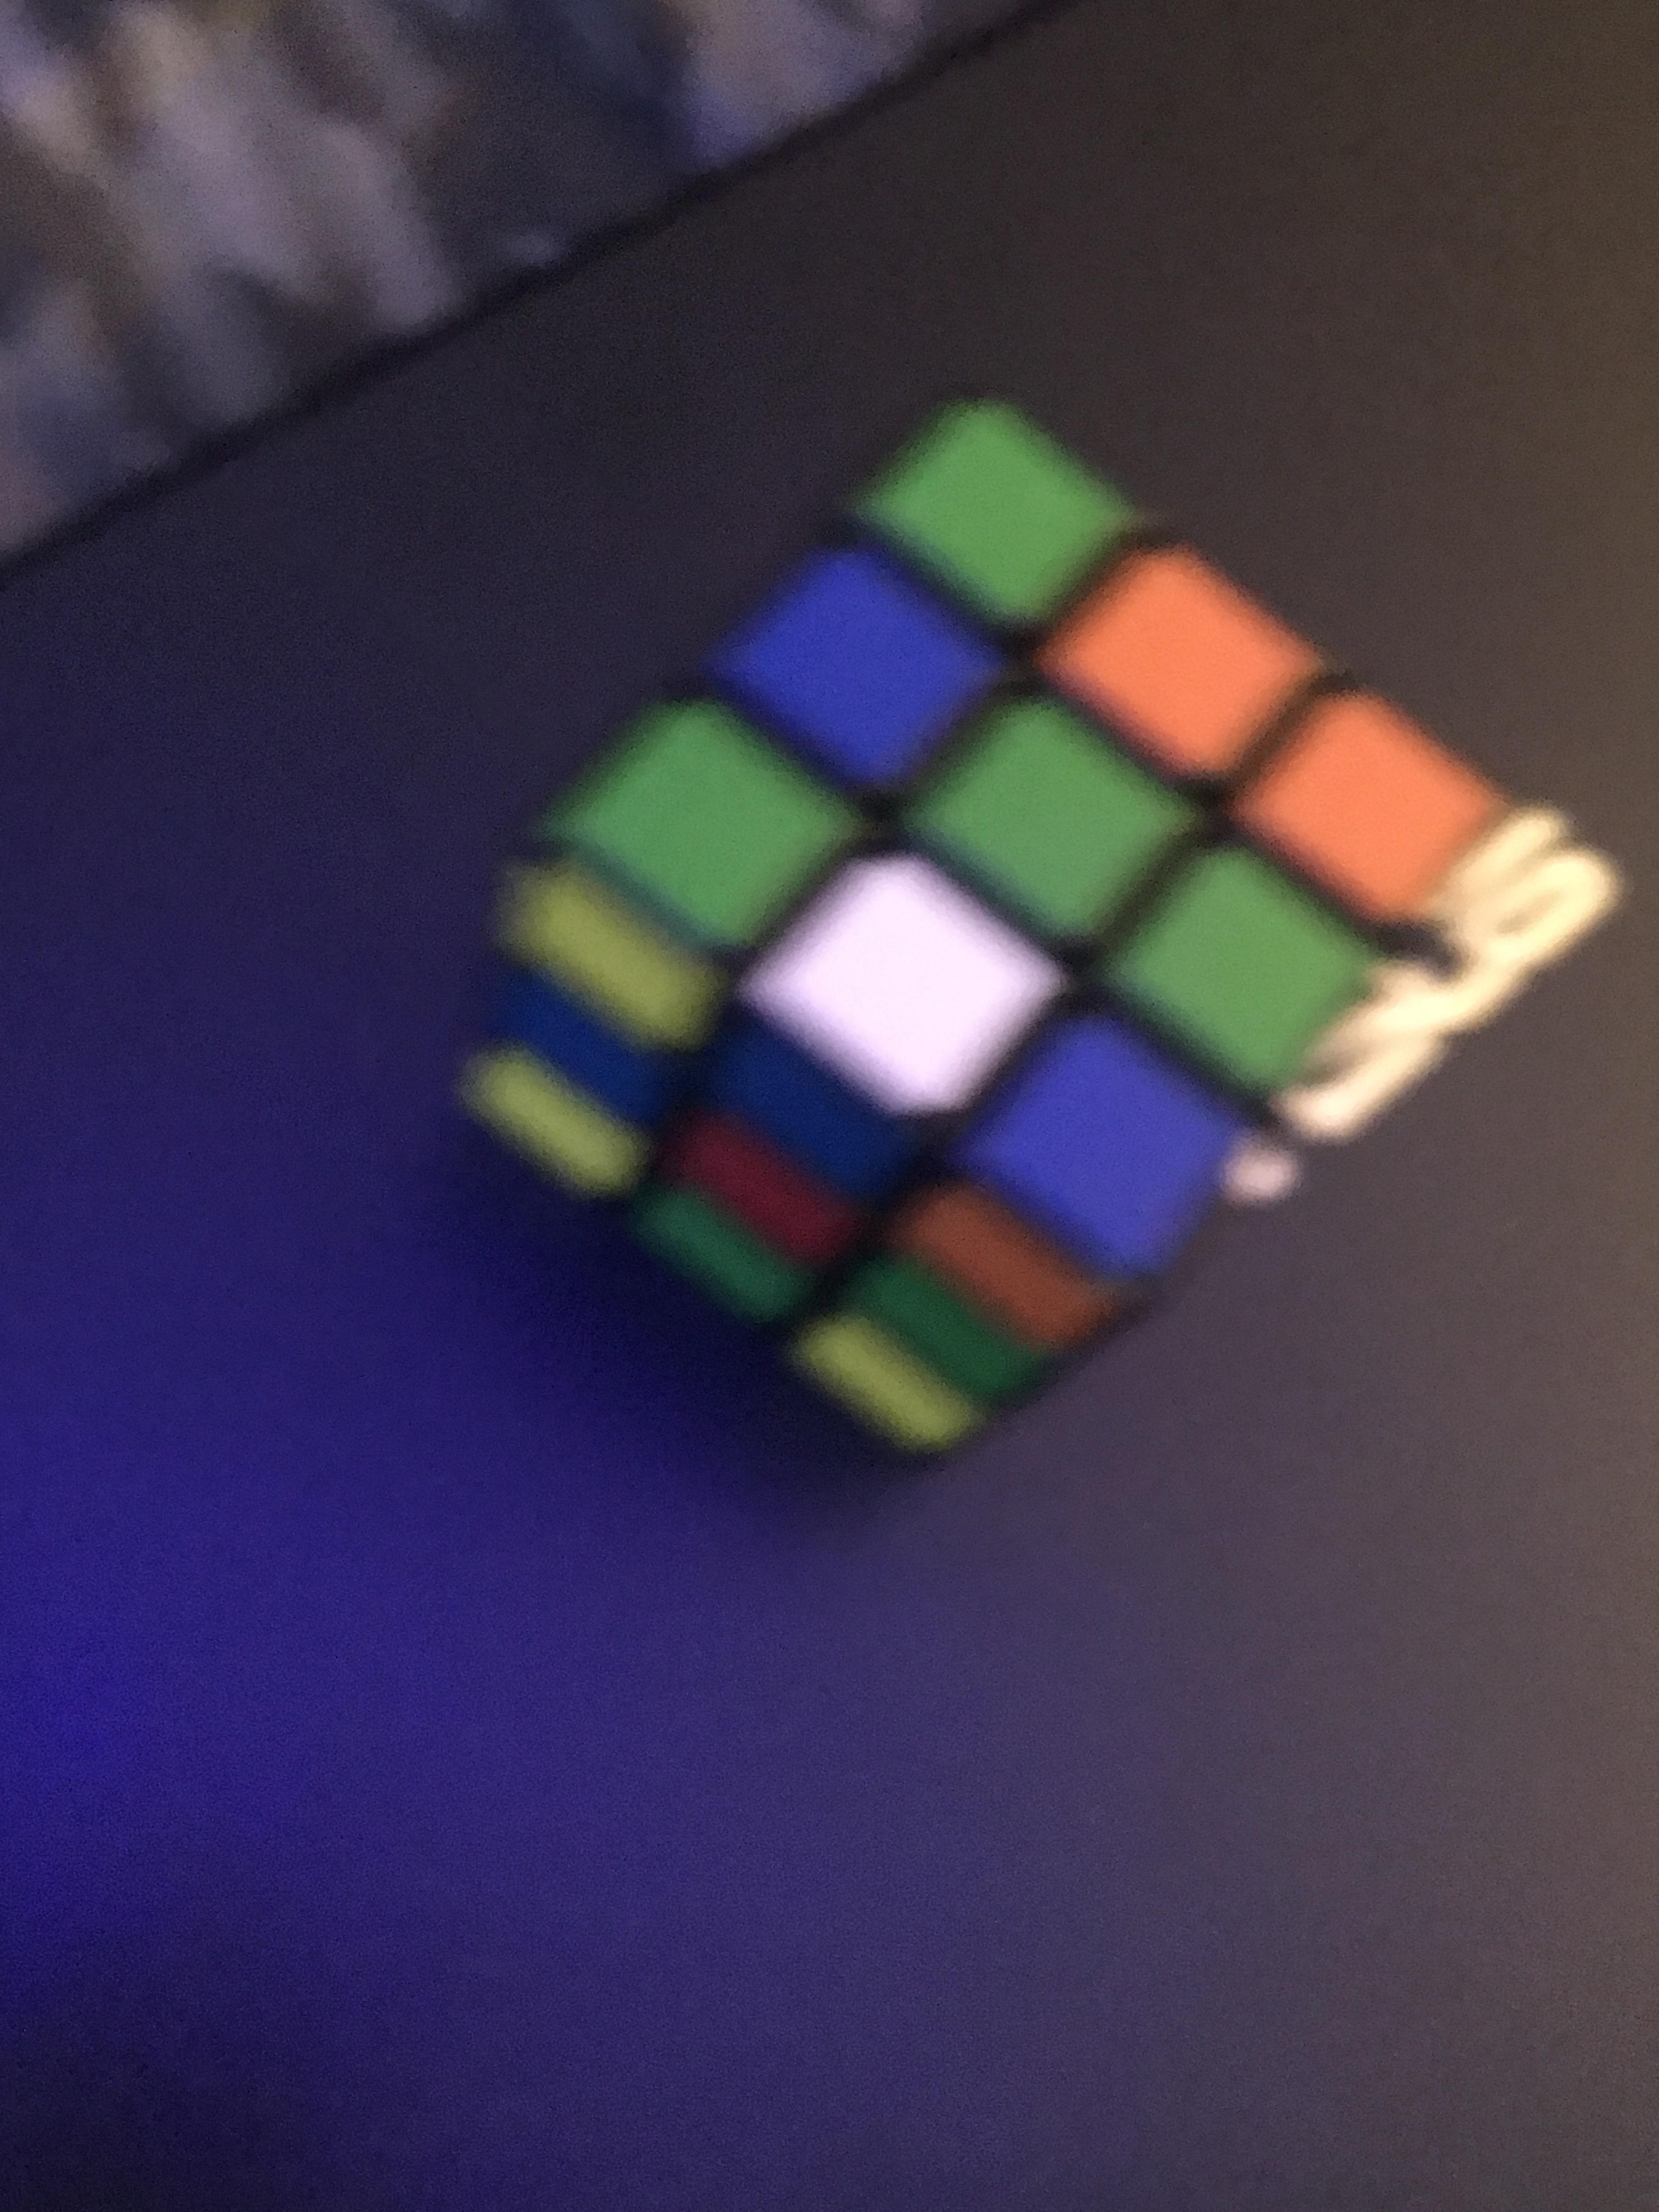rubiks: (467, 402, 1527, 1463)
